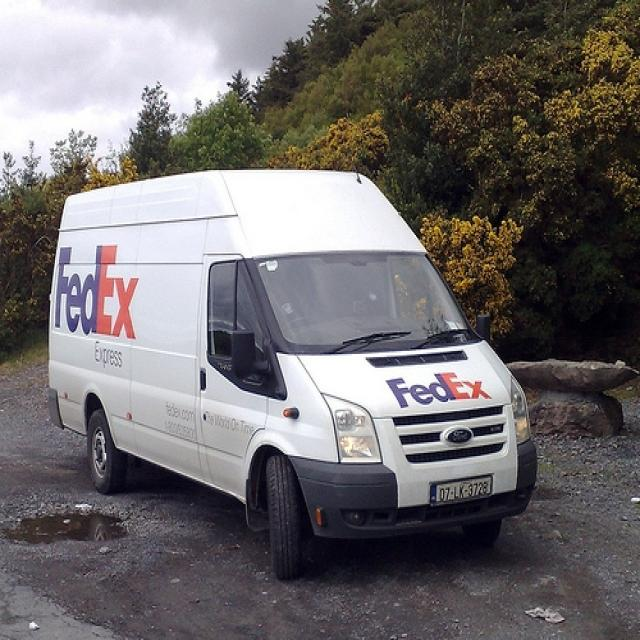fedex: (52, 242, 146, 343), (381, 368, 499, 419)
